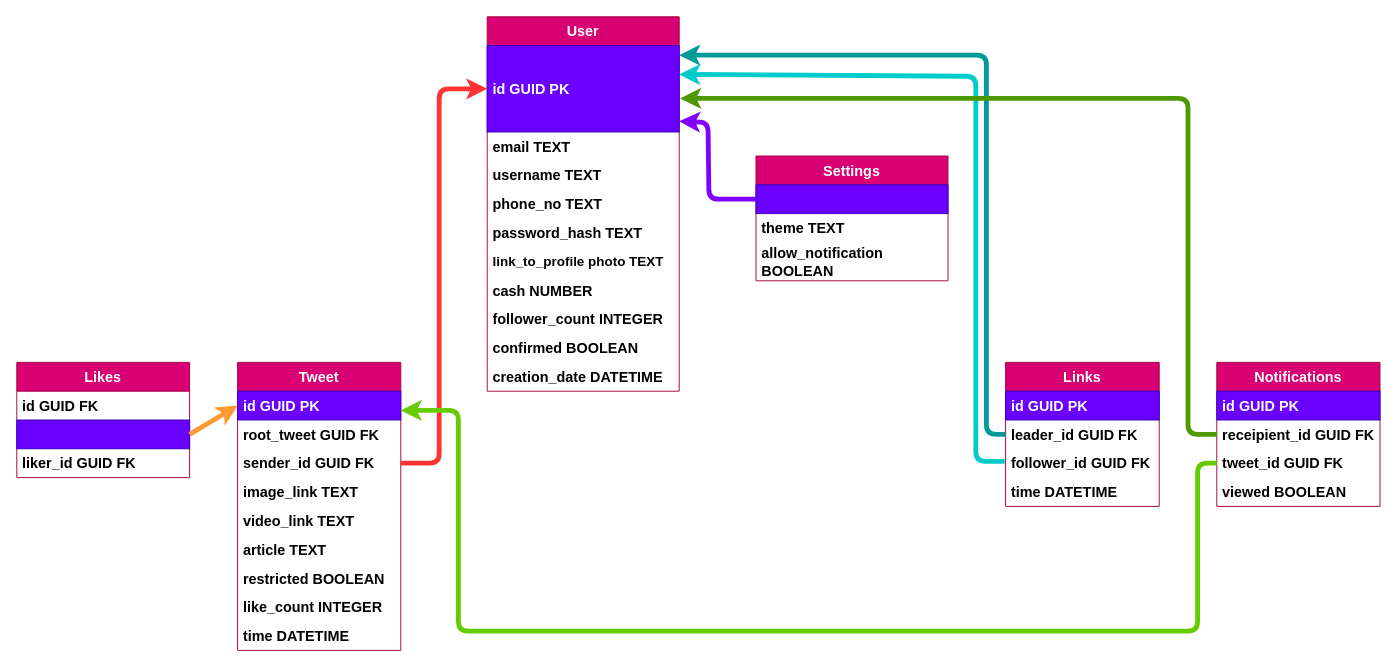
This 1397x667 diagram has some shape labels left out. The shapes that lost their labels are listed below. From the top down, each one's centre as x and y in pixels, then its label:
the point at 851,199: user_id GUID FK PK
the point at 103,434: tweet_id GUID PK FK
